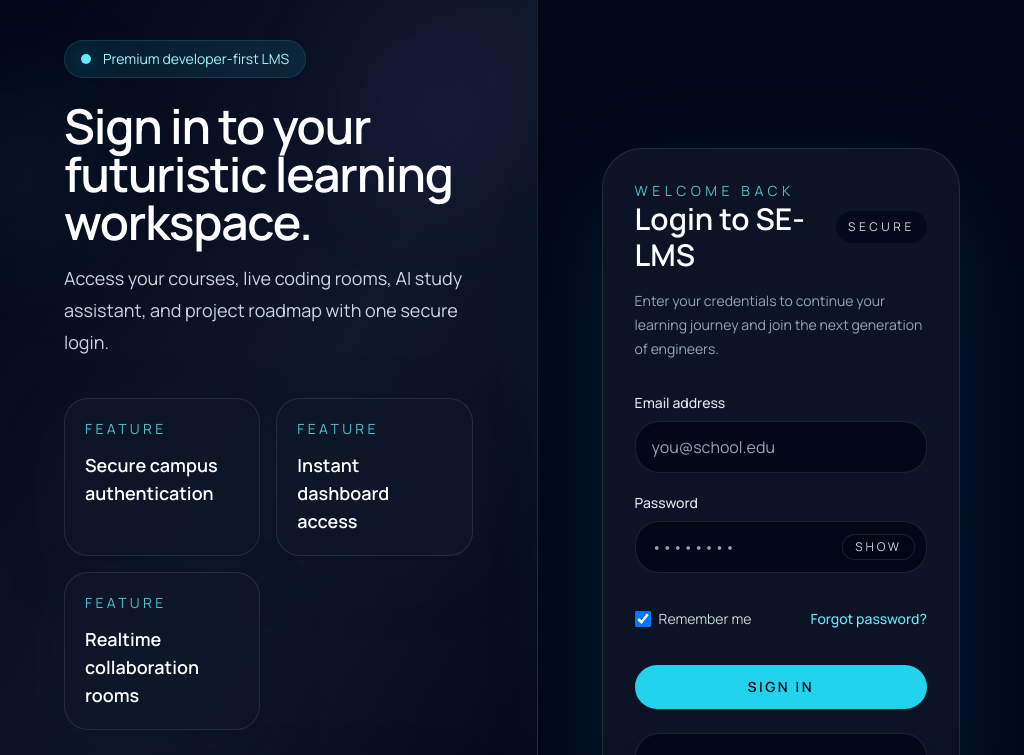
Test: LoginPage › displays an error when login fails
Type "test@school.edu" into the field with placeholder "you@school.edu" at (781,447), box [635, 421, 927, 473]
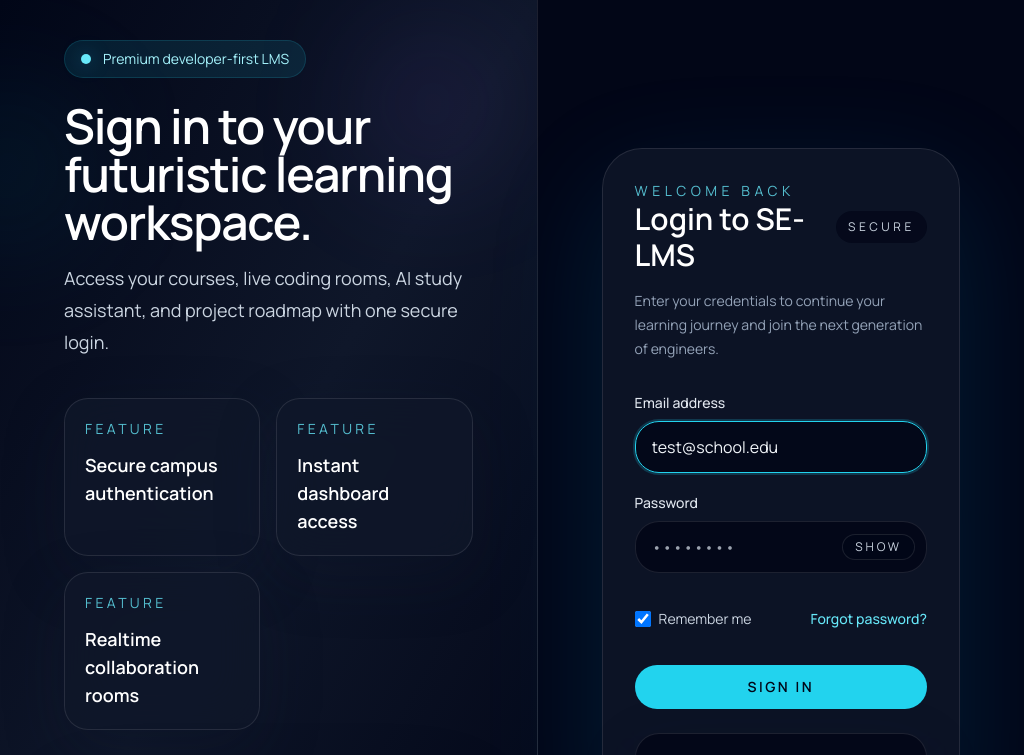
Type "password123" into the password field with placeholder "••••••••" at (781,547), box [635, 521, 927, 573]
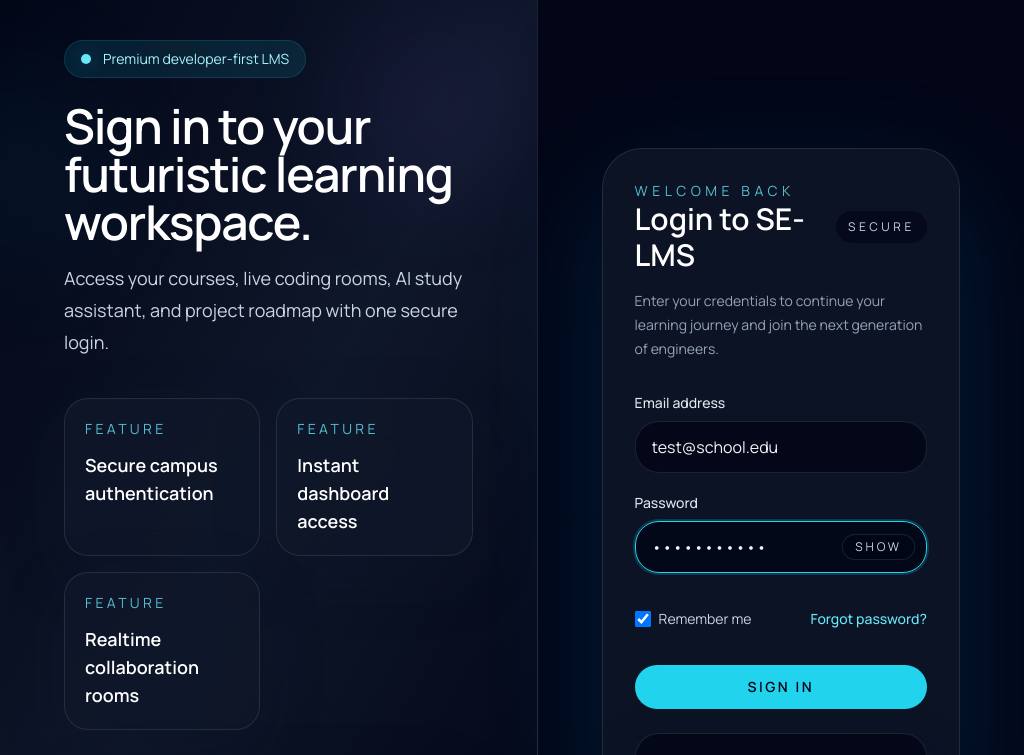
Click the button "Sign in" at (781,687), box [635, 665, 927, 709]
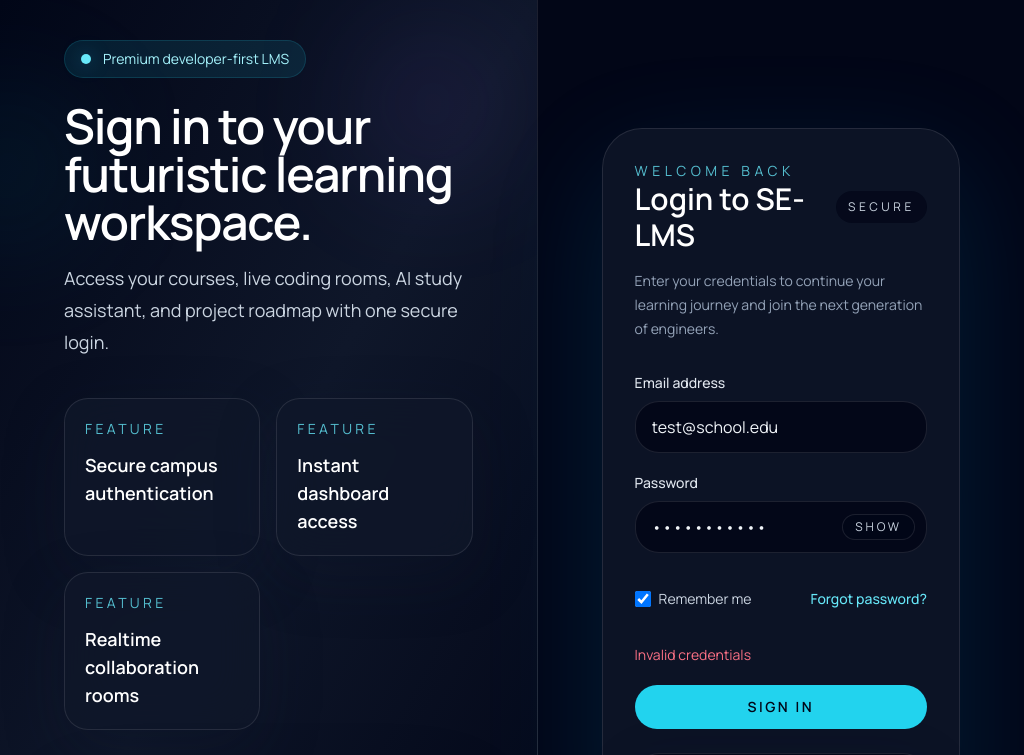
expect the text "Invalid credentials" is shown: met, box [635, 645, 751, 664]
